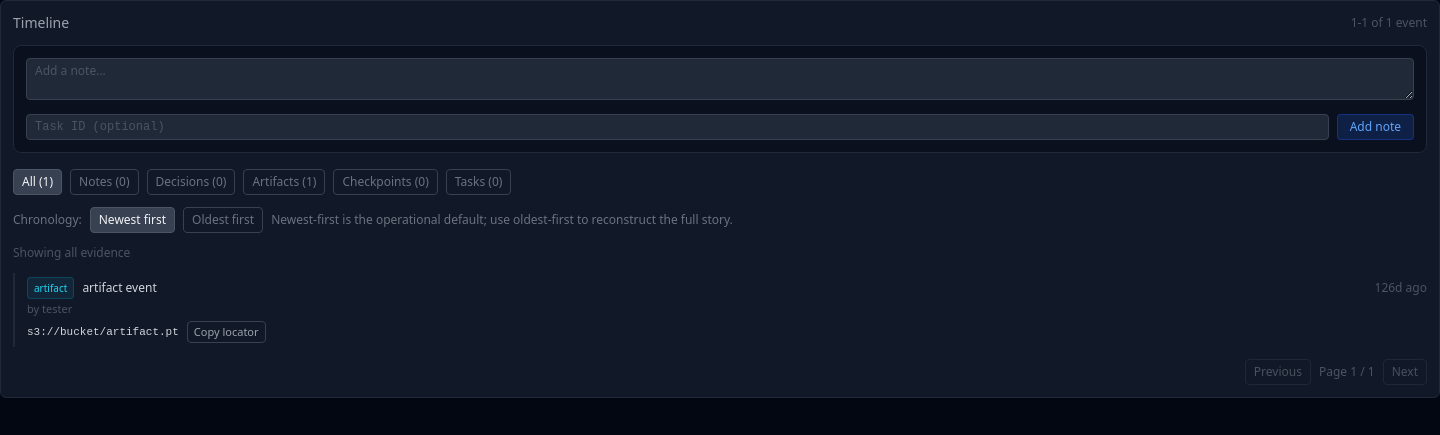
Test case: ExperimentTimelineCard › renders a copy locator button and copies artifact locator
Click the button "Copy locator": (226, 332) [187,321,266,343]
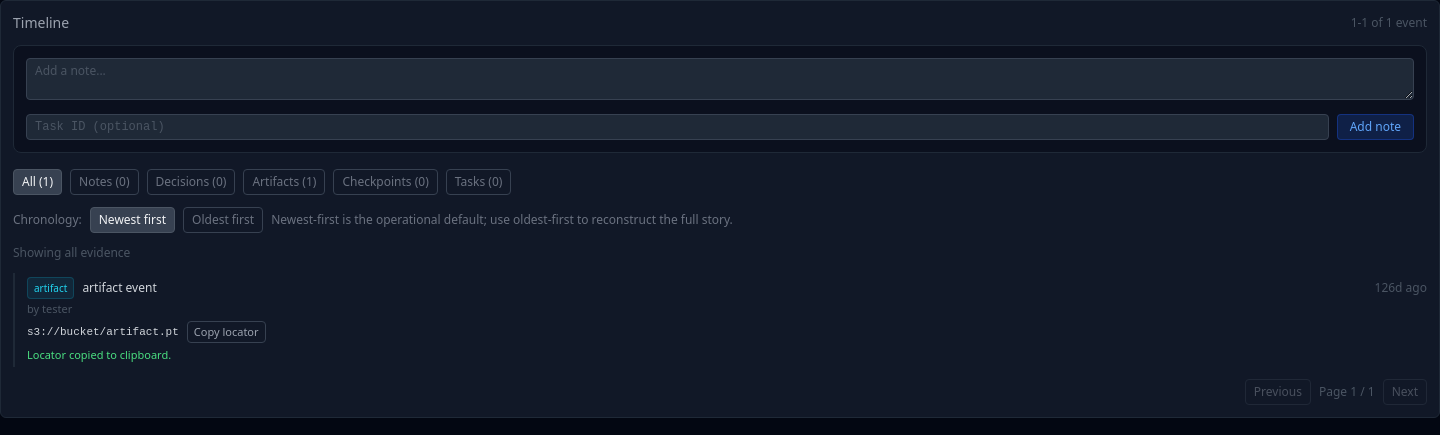
Expected: the text "Locator copied to clipboard." is shown, [27,347,171,362]
